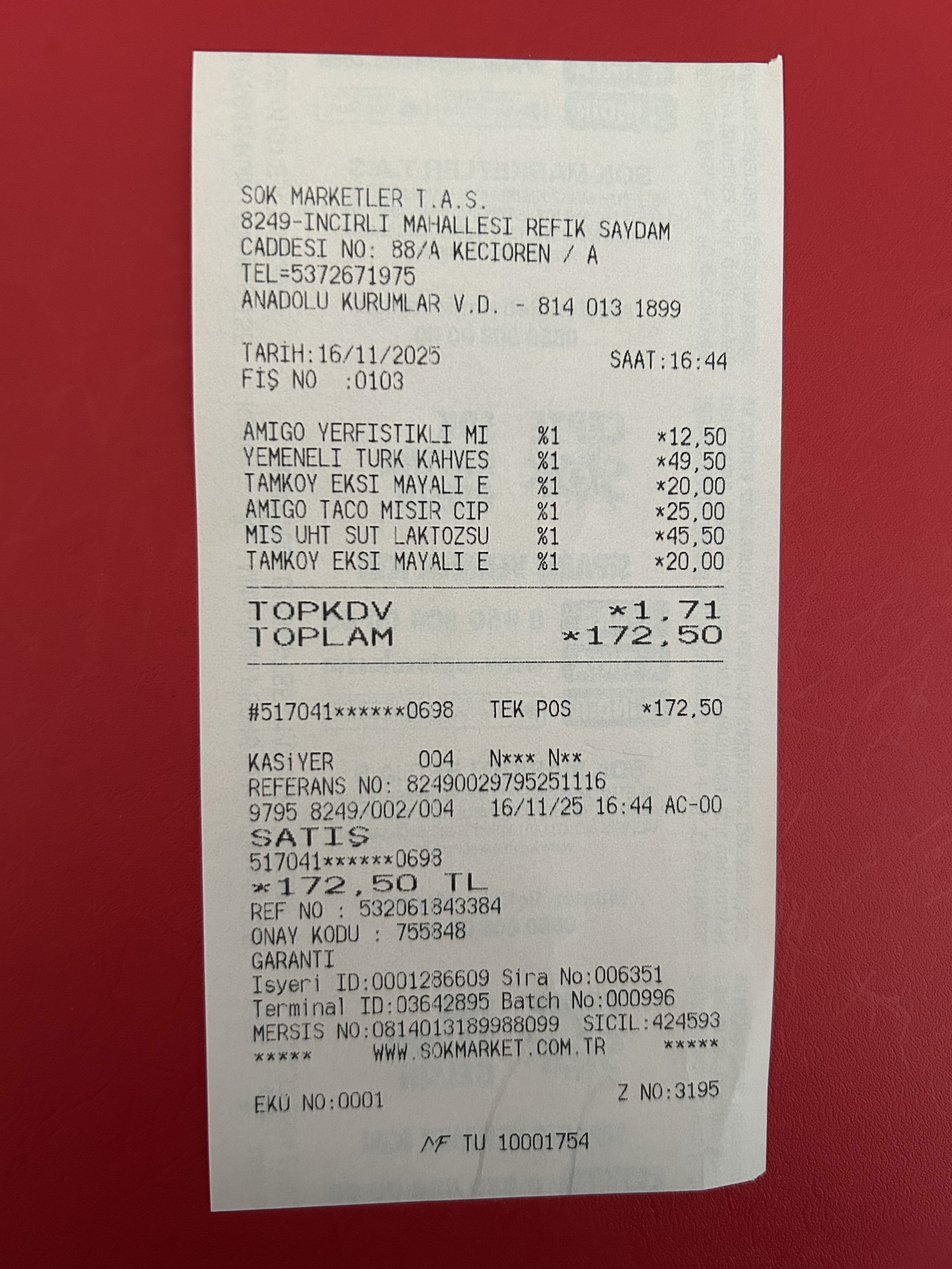date: (312, 334, 450, 369)
price: (578, 620, 734, 652)
workplace: (221, 176, 711, 267)
